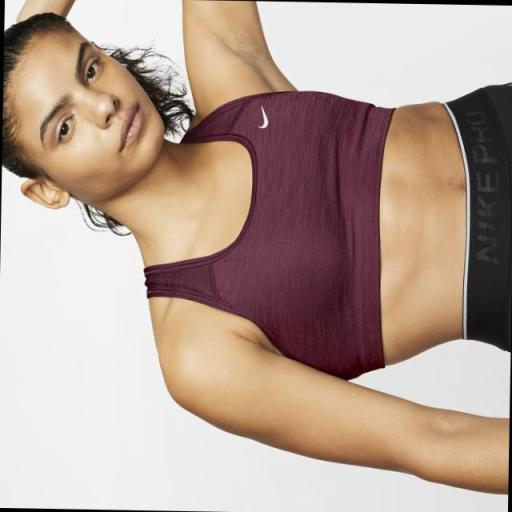Nike: (256, 100, 270, 130)
